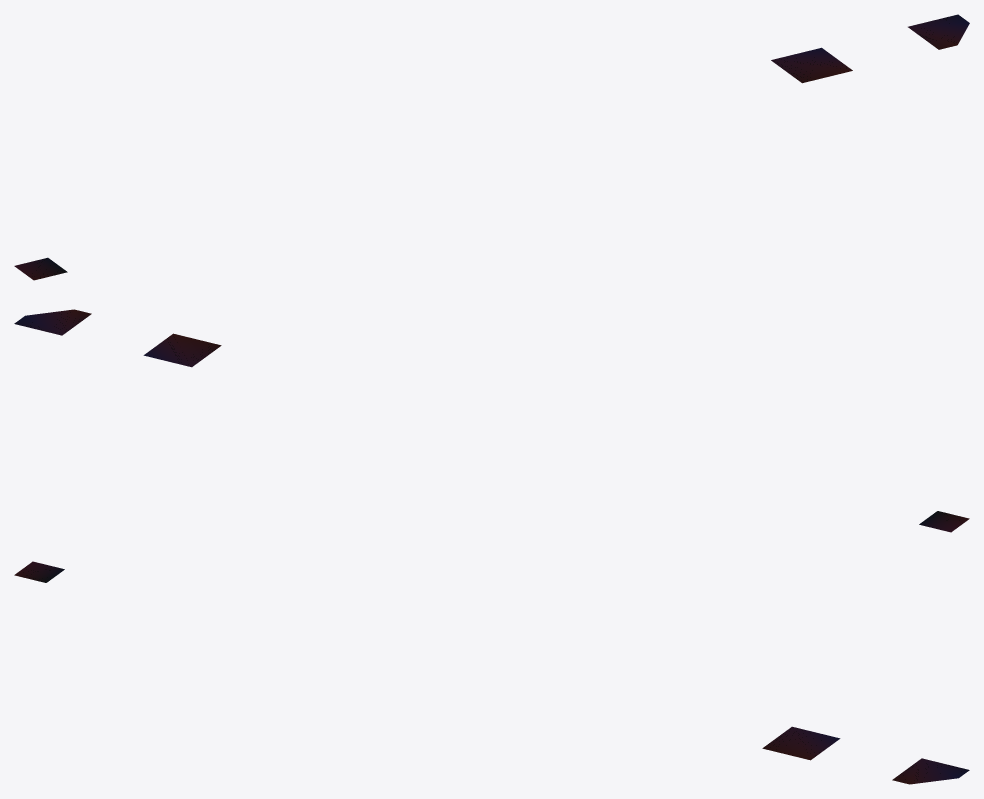
Rendered from ChicagoStealth_Alpha_94.glb.
3 renders of one model, top to bottom at view 1: azimuth 30°, elevation 25°; view 2: azimuth 150°, elevation 25°; view 3: azimuth 330°, elevation 25°, orthographic. The views are drawn at different scales.
Parts seen in each view (by area): view 1: ChicagoStealth_Alpha_94; view 2: ChicagoStealth_Alpha_94; view 3: ChicagoStealth_Alpha_94.
Boxes of the visible parts, left/top/right/bottom form: ChicagoStealth_Alpha_94: left=14, top=14, right=969, bottom=280; ChicagoStealth_Alpha_94: left=14, top=309, right=969, bottom=532; ChicagoStealth_Alpha_94: left=14, top=561, right=969, bottom=784.
Bounding box in the file's own units: 354 × 5.86e-15 × 26.37.
1 material, 1 textured.
